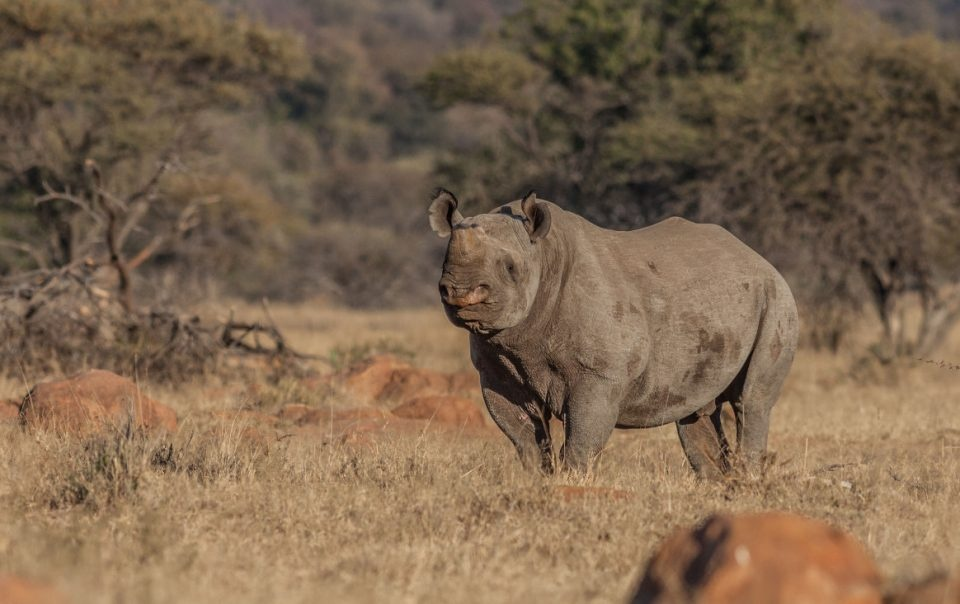rhino: (423, 182, 803, 483)
